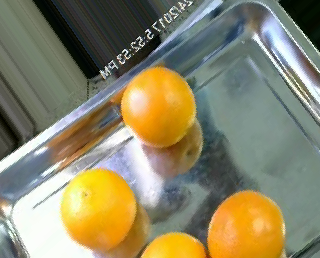Orange: (120, 66, 195, 149), (62, 169, 136, 250), (206, 189, 285, 258)
